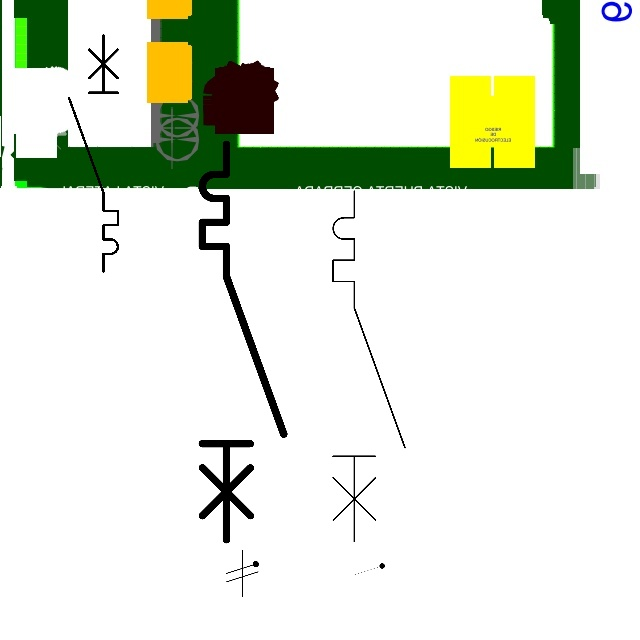interruptor_termomagnetico: (192, 134, 294, 550), (324, 182, 414, 550), (63, 29, 124, 278)
